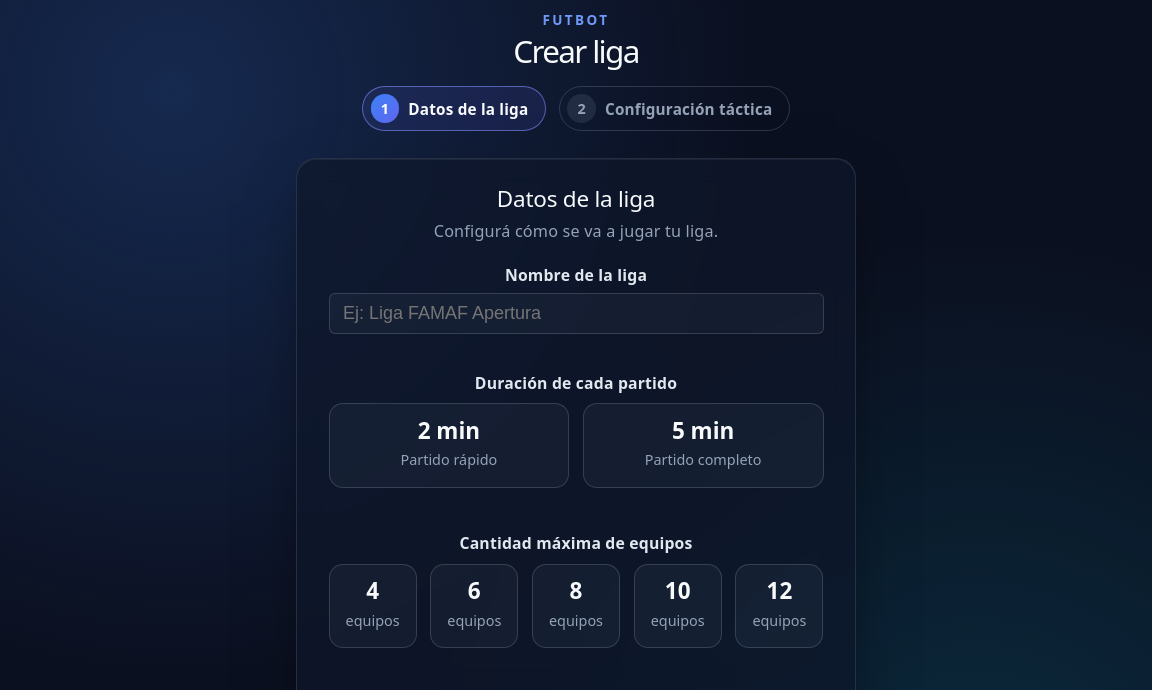
Test: CreateLeaguePage › Navegación › Debería volver al paso 1 sin perder lo ingresado
This screenshot has width=1152, height=690.
Type "Liga FAMAF" into the field labelled "Nombre de la liga" at (576, 314), box [328,293,824,334]
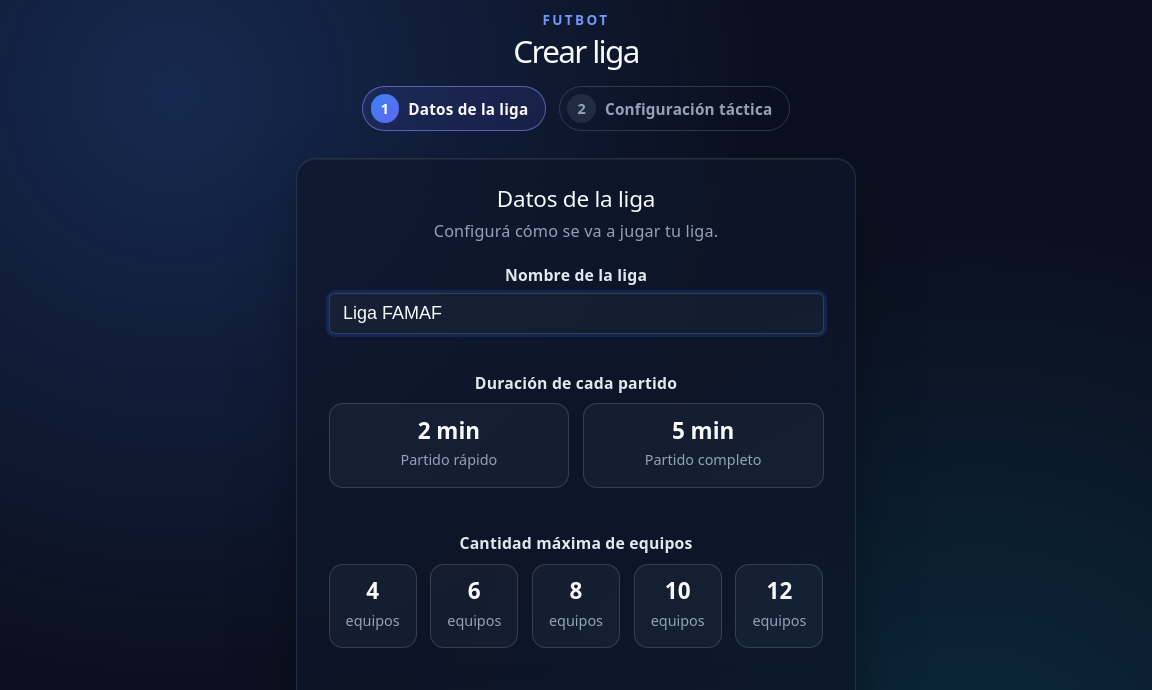
Click the radio button labelled "5 min Partido completo" at (703, 446), box [583,403,824,488]
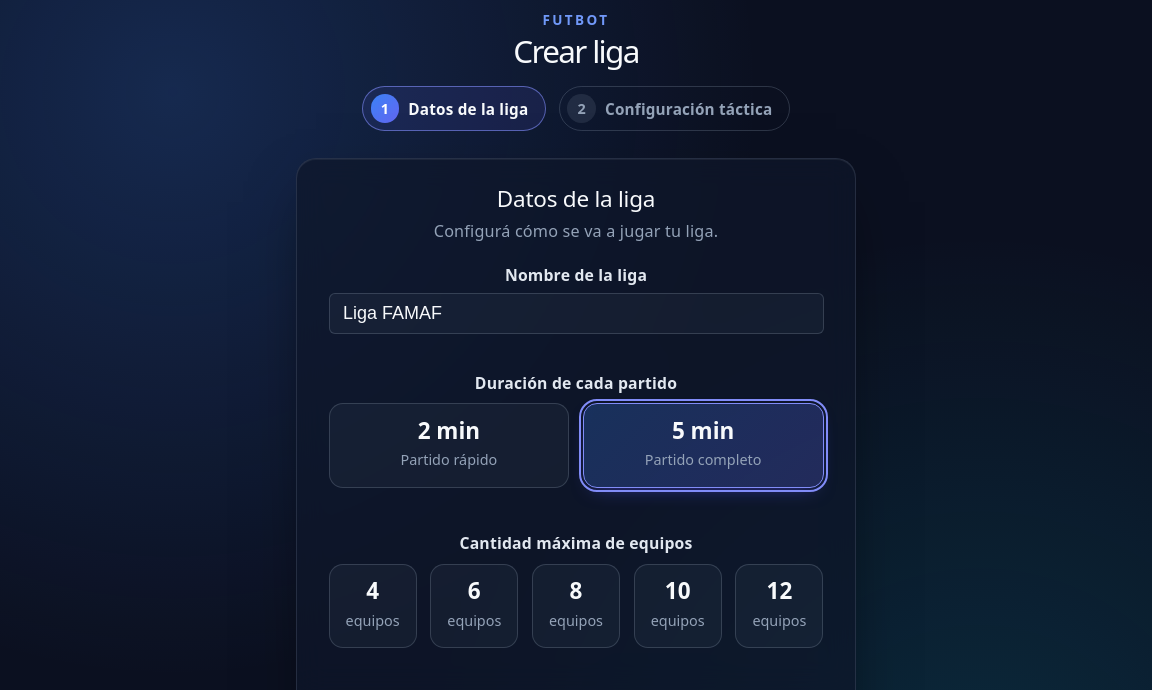
Click the radio button labelled "8 equipos" at (576, 606), box [532,564,620,648]
(page scrolled)
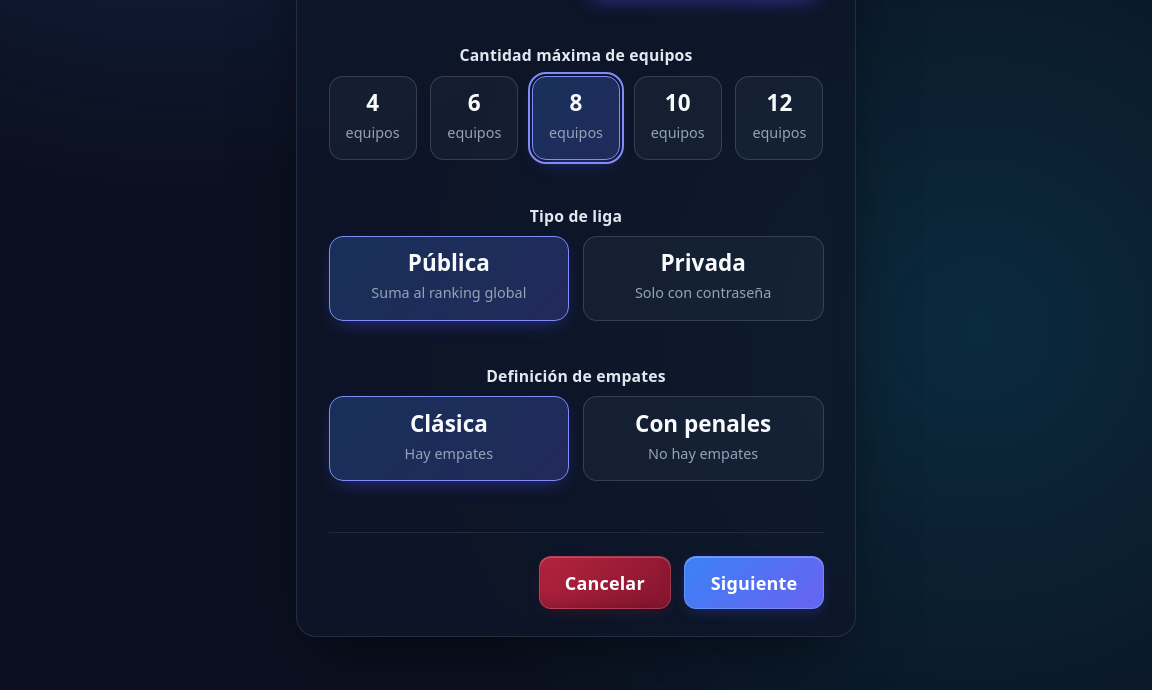
Click the button "Siguiente" at (754, 583), box [684,556,824,609]
(page scrolled)
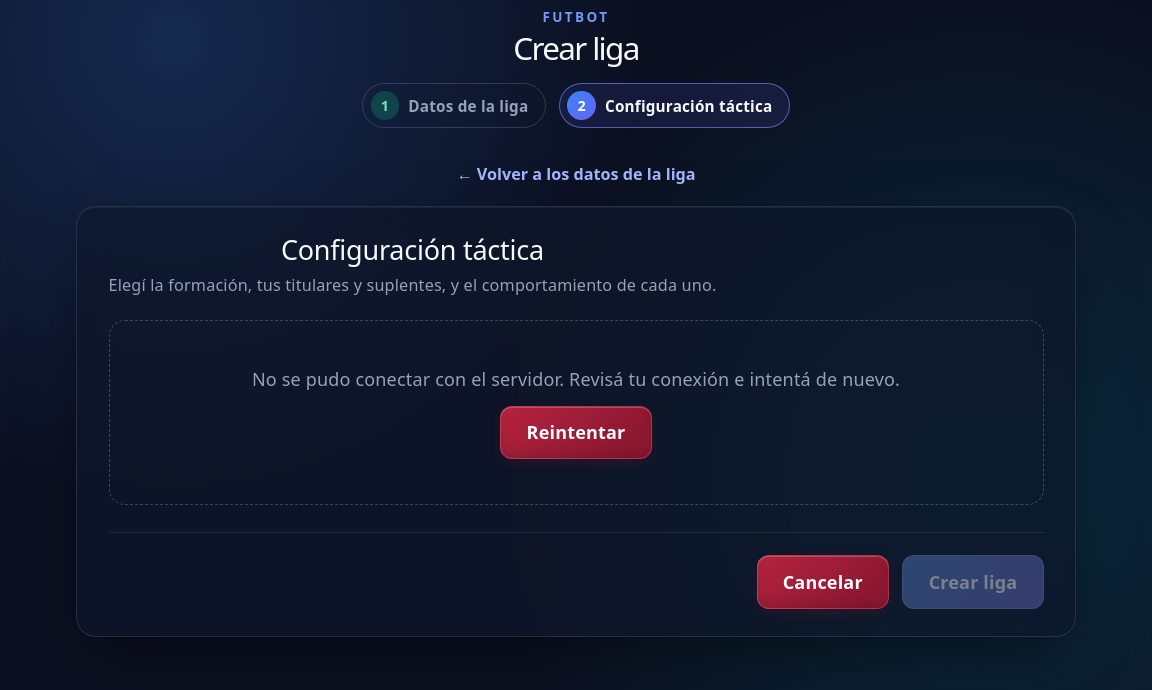
Click the button "← Volver a los datos de la liga" at (576, 174), box [456,155,696,192]
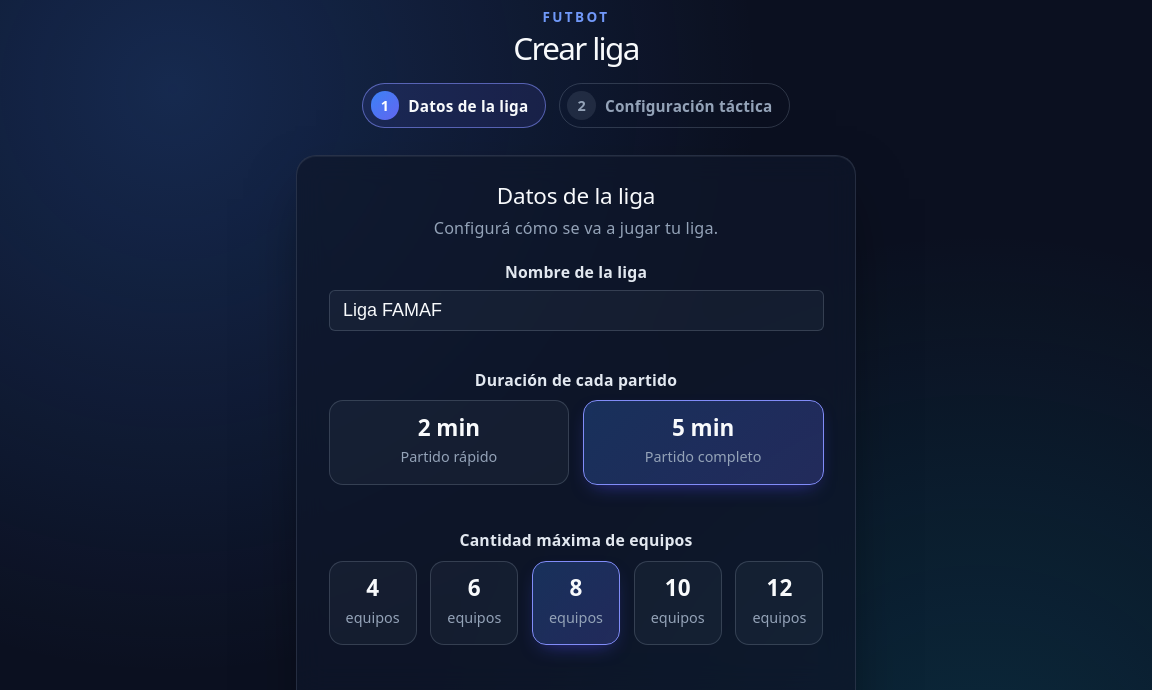
Expected: the radio button labelled "8 equipos" is checked, [532,561,620,645]
